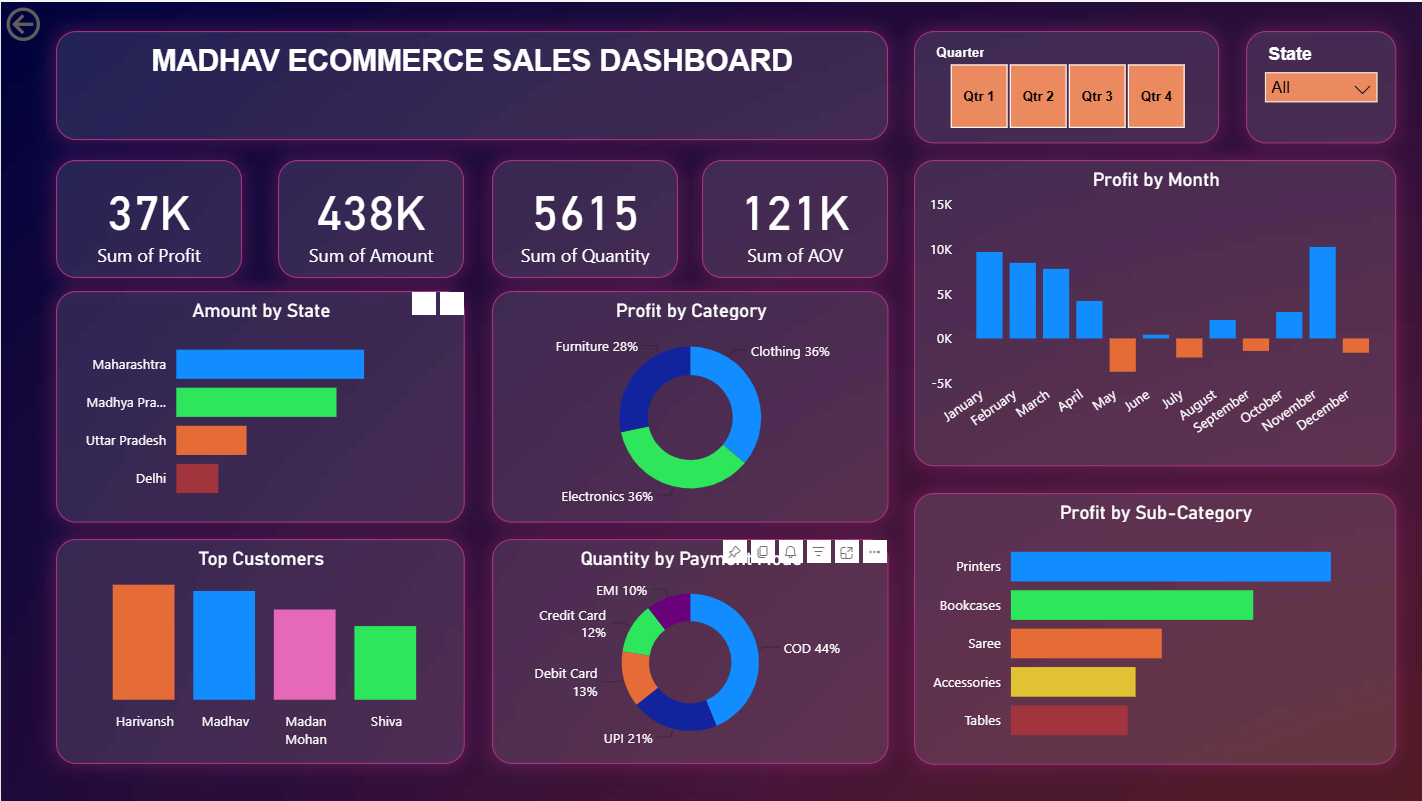

This screenshot's page, from the dashboard's own definition file:
{"tool":"powerbi","page":{"name":"Page 1","canvas":[1280,720],"ordinal":0},"visuals":[{"type":"columnChart","title":"Profit by Month","fields":{"Category":["Orders.Order Date.Variation.Date Hierarchy.Month"],"Y":["Sum(Details.Profit)"]},"box":[819.9,142,432.8,275.3],"z":0},{"type":"textbox","title":"HGHGH","box":[49.6,26.3,747,98.2],"z":1000},{"type":"barChart","title":"Profit by Sub-Category","fields":{"Category":["Details.Sub-Category"],"Y":["Sum(Details.Profit)"]},"box":[819.9,440.6,432.8,244.1],"z":2000},{"type":"donutChart","title":" Profit by Category","fields":{"Category":["Details.Category"],"Series":["Details.Category"],"Y":["Sum(Details.Profit)"]},"box":[440.6,259.7,356,208.2],"z":3000},{"type":"donutChart","title":"Quantity by Payment Mode","fields":{"Category":["Details.PaymentMode"],"Y":["Sum(Details.Quantity)"]},"box":[440.6,482.4,356,202.3],"z":4000},{"type":"card","fields":{"Values":["Sum(Details.AOV)"]},"box":[629.3,142,167.3,106],"z":5000},{"type":"card","fields":{"Values":["Sum(Details.Quantity)"]},"box":[440.6,142,167.3,106],"z":6000},{"type":"card","fields":{"Values":["Sum(Details.Amount)"]},"box":[249,142,167.3,106],"z":7000},{"type":"card","fields":{"Values":["Sum(Details.Profit)"]},"box":[49.6,142,167.3,106],"z":8000},{"type":"actionButton","box":[0,0,100,40],"z":9000},{"type":"barChart","title":"Amount by State","fields":{"Category":["Orders.State"],"Y":["Sum(Details.Amount)"]},"box":[49.6,259.7,366.7,208.2],"z":10000},{"type":"columnChart","title":"Top Customers","fields":{"Category":["Orders.CustomerName"],"Y":["Sum(Details.Amount)"]},"box":[49.6,482.4,366.7,202.3],"z":11000},{"type":"slicer","fields":{"Values":["Orders.Order Date.Variation.Date Hierarchy.Quarter"]},"box":[819.9,26.3,274.3,101.2],"z":12000},{"type":"slicer","fields":{"Values":["Orders.State"]},"box":[1117.6,26.3,135.2,101.2],"z":13000}]}

Visuals, with their boxes in screenshot pixels (x1, y1, x2, y2), scaled from the page's 1280x720 canvas onto the 1422x801 screenshot:
"Profit by Month" columnChart: (left=911, top=158, right=1392, bottom=464)
"HGHGH" textbox: (left=55, top=29, right=885, bottom=139)
"Profit by Sub-Category" barChart: (left=911, top=490, right=1392, bottom=762)
" Profit by Category" donutChart: (left=489, top=289, right=885, bottom=521)
"Quantity by Payment Mode" donutChart: (left=489, top=537, right=885, bottom=762)
card - Sum(Details.AOV): (left=699, top=158, right=885, bottom=276)
card - Sum(Details.Quantity): (left=489, top=158, right=675, bottom=276)
card - Sum(Details.Amount): (left=277, top=158, right=462, bottom=276)
card - Sum(Details.Profit): (left=55, top=158, right=241, bottom=276)
actionButton: (left=0, top=0, right=111, bottom=44)
"Amount by State" barChart: (left=55, top=289, right=462, bottom=521)
"Top Customers" columnChart: (left=55, top=537, right=462, bottom=762)
slicer - Orders.Order Date.Variation.Date Hierarchy.Quarter: (left=911, top=29, right=1216, bottom=142)
slicer - Orders.State: (left=1242, top=29, right=1392, bottom=142)
